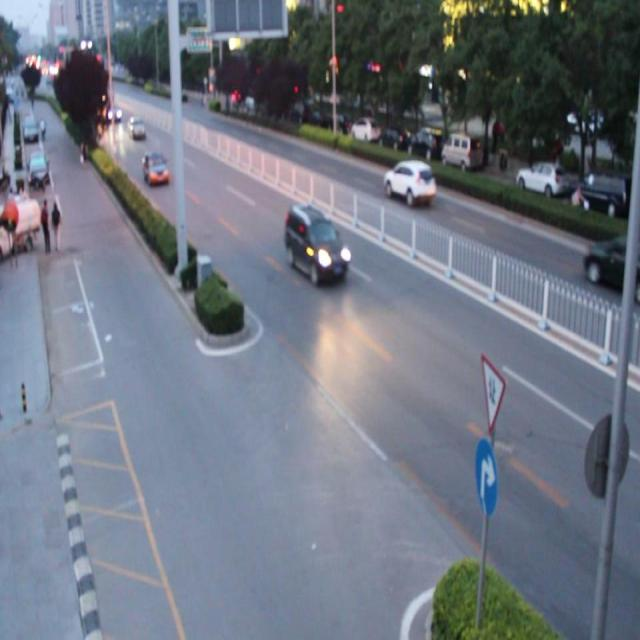car: (284, 202, 348, 284), (582, 229, 640, 297), (382, 157, 434, 207), (143, 152, 169, 186)
